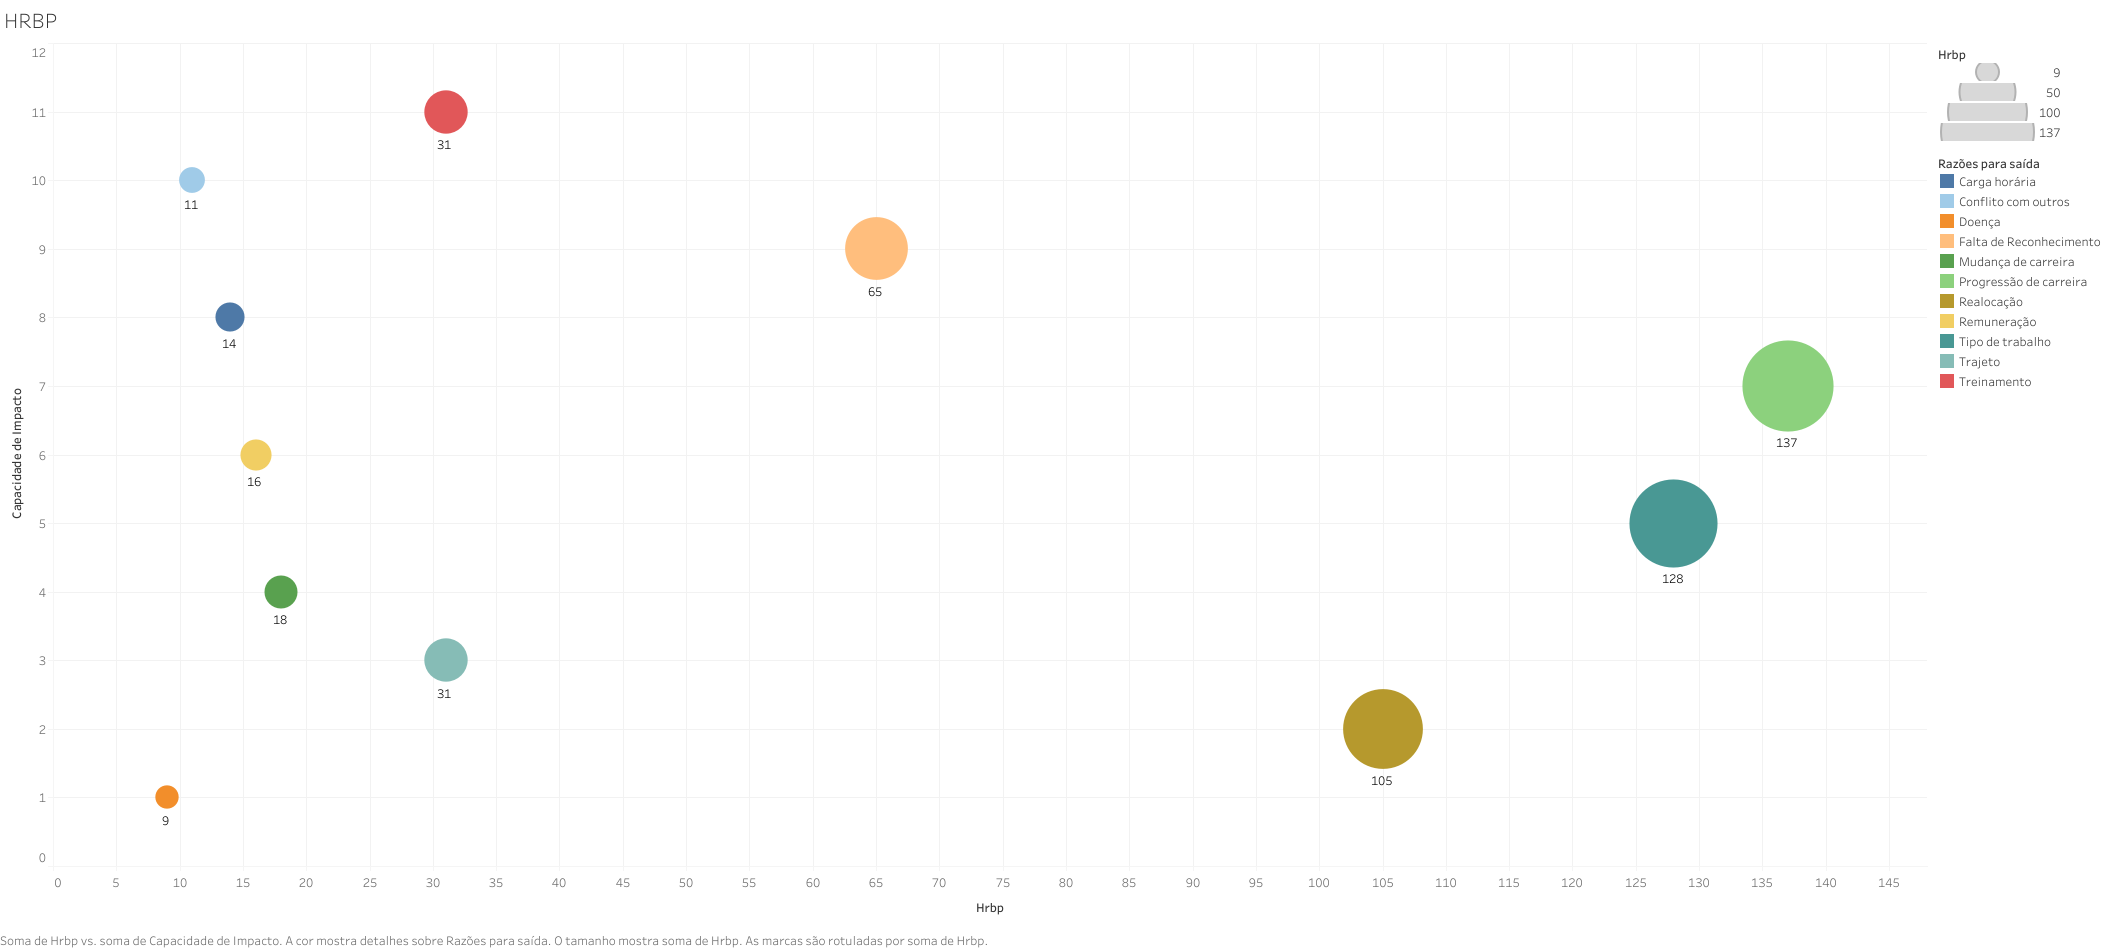

This screenshot's page, from the dashboard's own definition file:
{"tool":"tableau","page":{"name":"Painel 1","canvas":[1000,800],"ordinal":0},"visuals":[{"type":"worksheet","title":"HRBP","mark":"Automatic","rows":["Capacidade de Impacto"],"cols":["HRBP"],"box":[8,8,984,478]},{"type":"text","box":[8,486,727,306]},{"type":"legend","title":"HRBP","param":"[federated.05tfhy30yq1mx81fdck2e0lxcqmv].[sum:HRBP:qk]","box":[735,486,257,107]},{"type":"legend","title":"HRBP","param":"[federated.05tfhy30yq1mx81fdck2e0lxcqmv].[none:Razões para saída:nk]","box":[735,593,257,199]}]}

Visuals, with their boxes on the page's 1000x800 design canvas (x1, y1, x2, y2). These are canvas units, not pixel positions in the 2105x949 screenshot, which may show the page scaled, cropped or inside an application window:
"HRBP" worksheet: detection(8, 8, 992, 486)
text: detection(8, 486, 735, 792)
"HRBP" legend: detection(735, 486, 992, 593)
"HRBP" legend: detection(735, 593, 992, 792)
